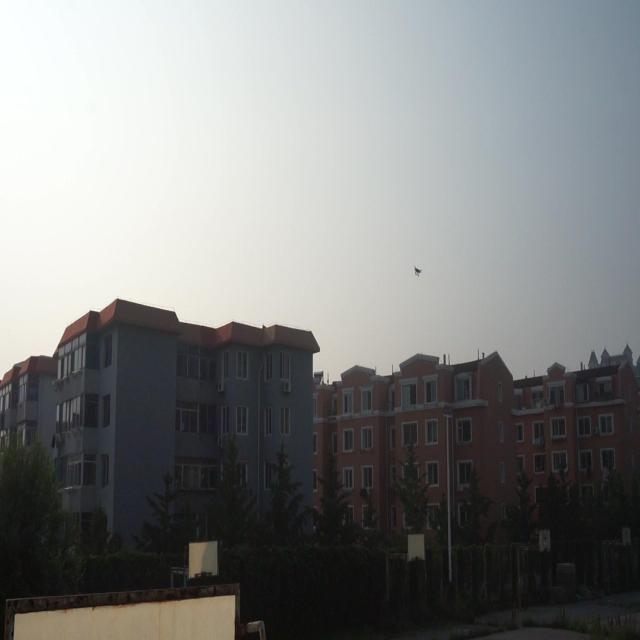drone: (413, 262, 422, 279)
